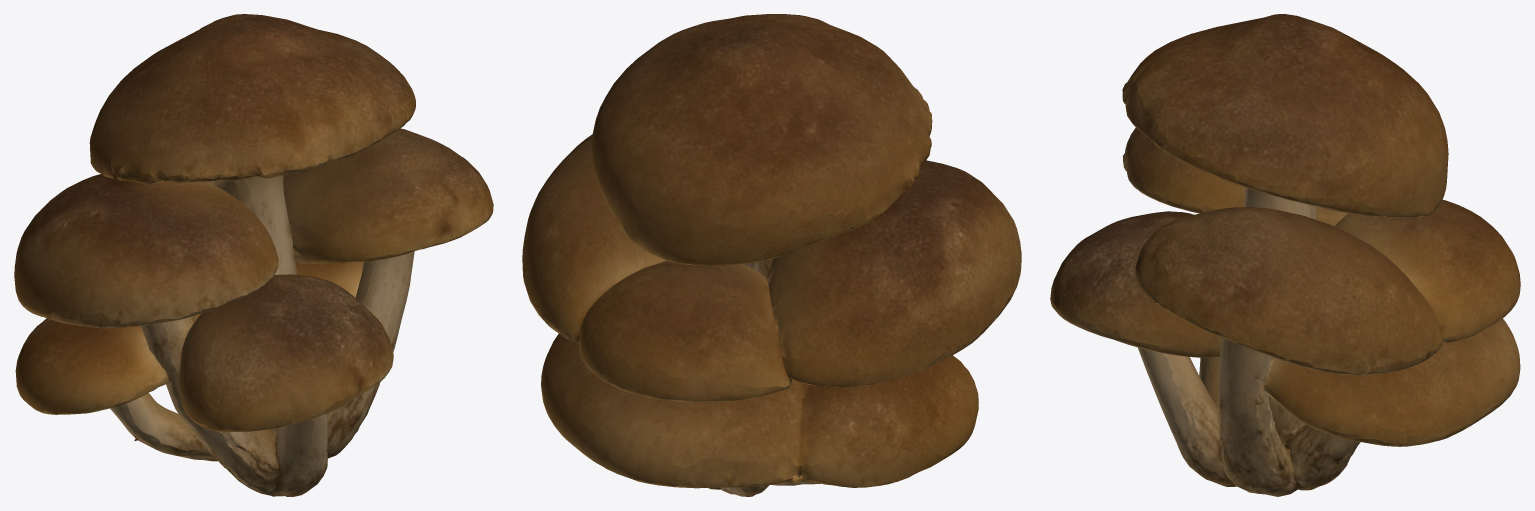
The model's file is r6-mushroom-cluster-r6.glb.
3 views of the same model, side by side, from view 1: azimuth 30°, elevation 25°; view 2: azimuth 150°, elevation 25°; view 3: azimuth 270°, elevation 25° (orthographic). The views are drawn at different scales.
Visible parts, largest first — view 1: geometry_0; view 2: geometry_0; view 3: geometry_0.
Part boxes in pixels (x1=…): geometry_0: x1=14, y1=14, x2=493, y2=496; geometry_0: x1=522, y1=14, x2=1021, y2=496; geometry_0: x1=1050, y1=14, x2=1520, y2=496.
Bounding box in the file's own units: 0.1799 × 0.1797 × 0.1692.
1 material, 1 textured.
